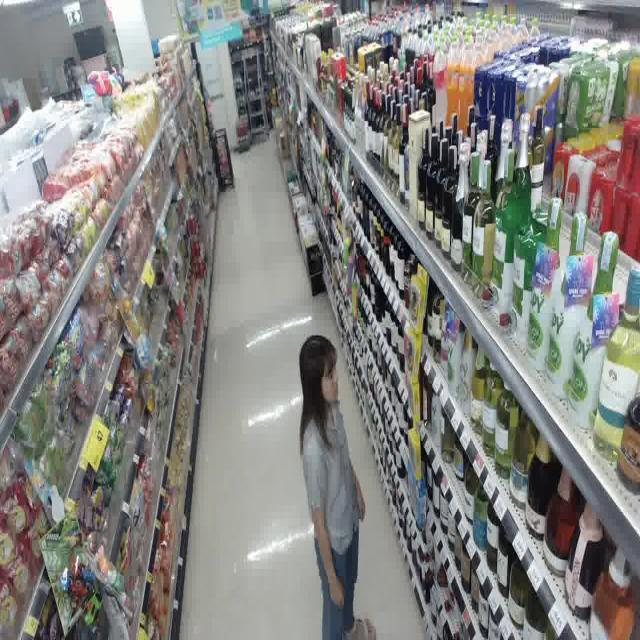Normal: (282, 315, 390, 640)
